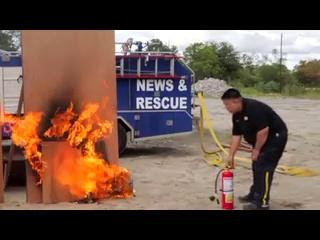Fire: (1, 89, 137, 204)
